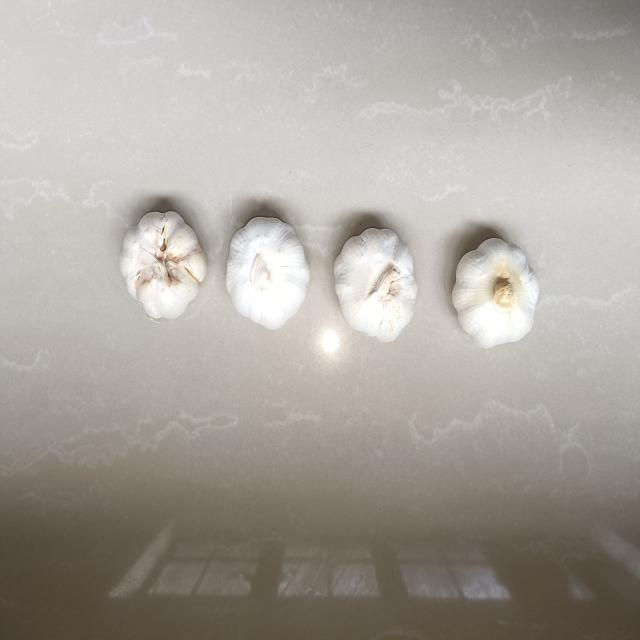garlic: (115, 199, 211, 333), (221, 203, 313, 334), (334, 224, 420, 349), (452, 240, 543, 354)
